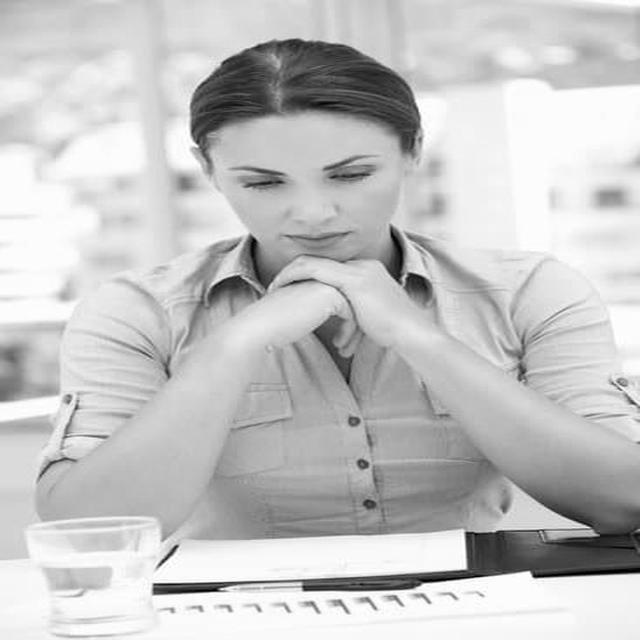Sadness: (224, 119, 393, 261)
